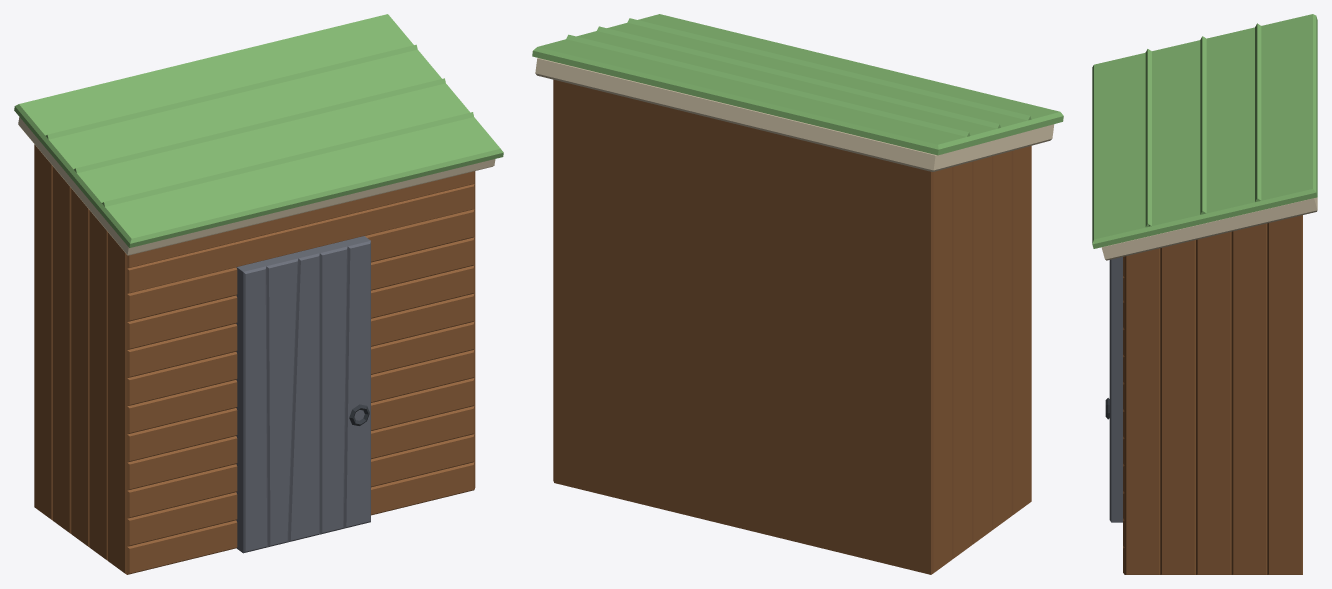
Rendered from toilet_a01.gltf.
The picture shows the model from 3 angles, left to right: view 1: azimuth 30°, elevation 25°; view 2: azimuth 150°, elevation 25°; view 3: azimuth 270°, elevation 25°; orthographic projection. The views are drawn at different scales.
Parts seen in each view (by area): view 1: toilet_a01_001; view 2: toilet_a01_001; view 3: toilet_a01_001.
Part boxes in pixels (bbox=[...]): toilet_a01_001: bbox=[14, 14, 503, 574]; toilet_a01_001: bbox=[532, 14, 1063, 574]; toilet_a01_001: bbox=[1092, 14, 1317, 574].
Size of the model in its own units: 2.35 by 2.42 by 1.26.
1 material, 1 textured.
